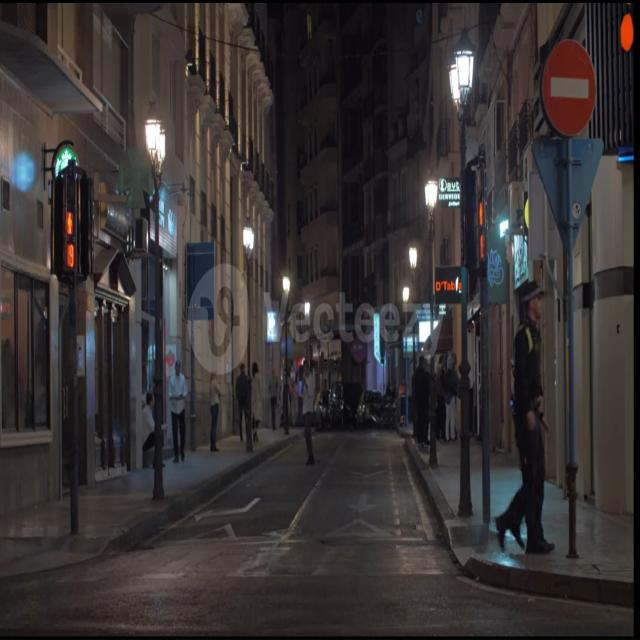pedestrian: (496, 281, 554, 554)
